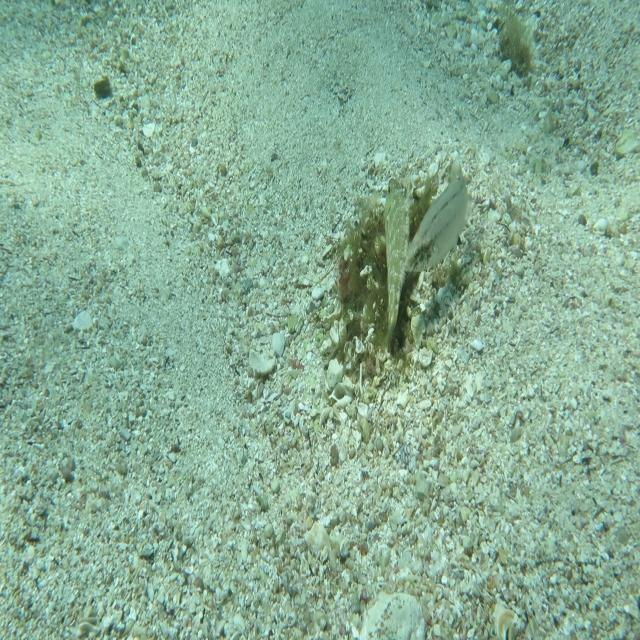ROLL: (374, 169, 419, 359)
female: (402, 156, 474, 277)
nest: (322, 153, 459, 385)
